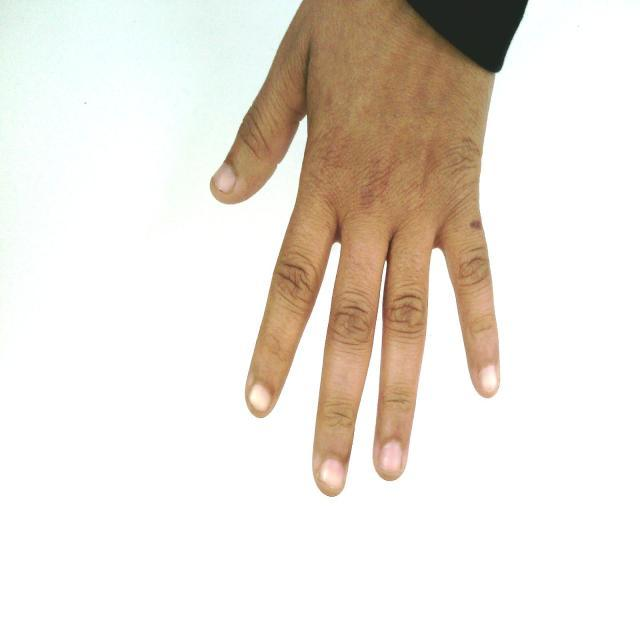Fingernail: (379, 442, 402, 475), (319, 460, 345, 489), (212, 163, 237, 193), (249, 384, 272, 413), (479, 365, 497, 392)
